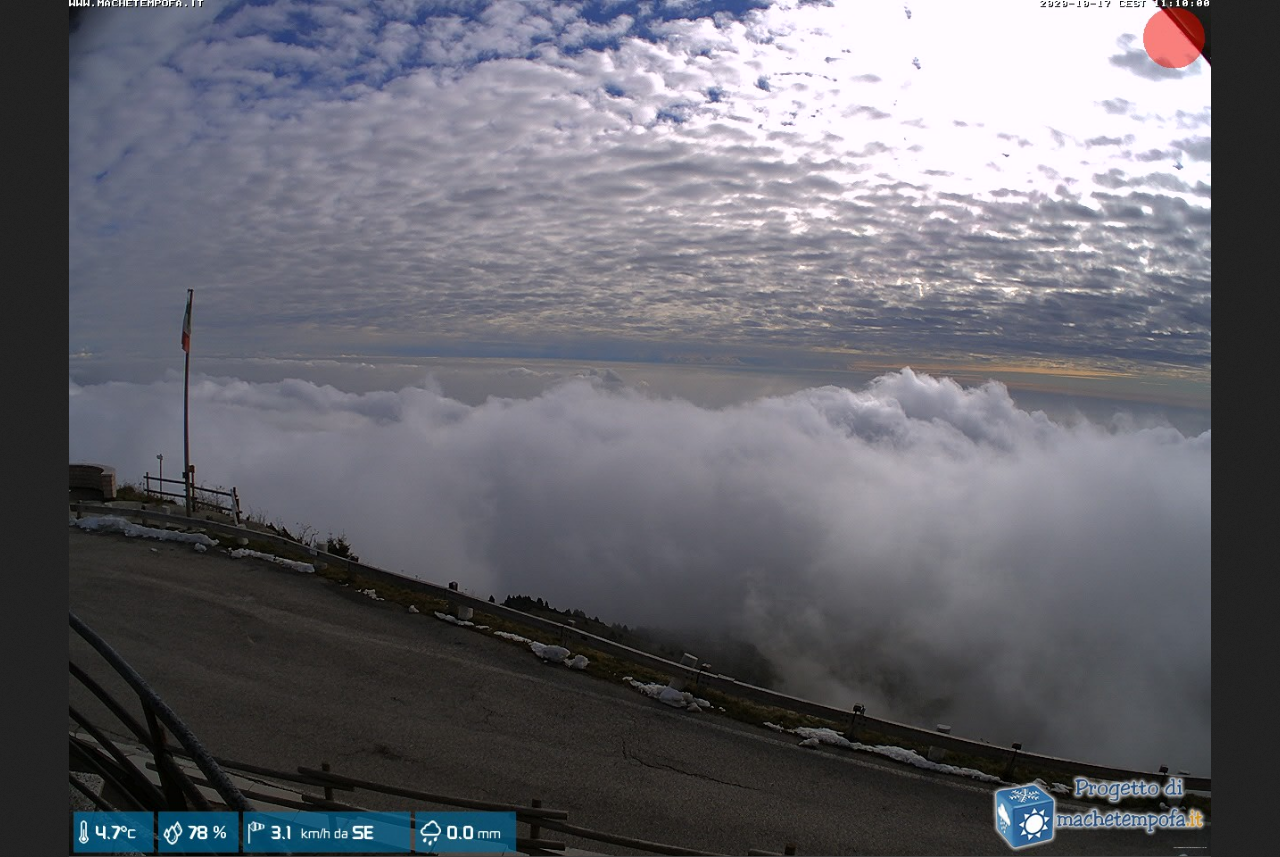no: (172, 287, 201, 357)
